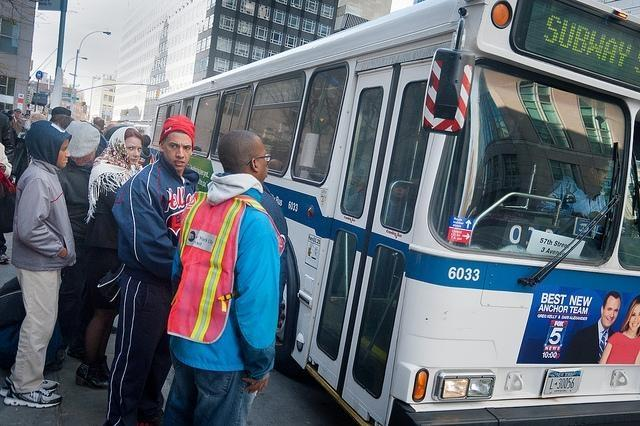bus: (151, 0, 640, 419)
